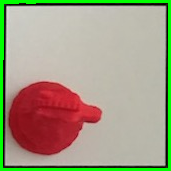Red Knight: (6, 78, 104, 159)
